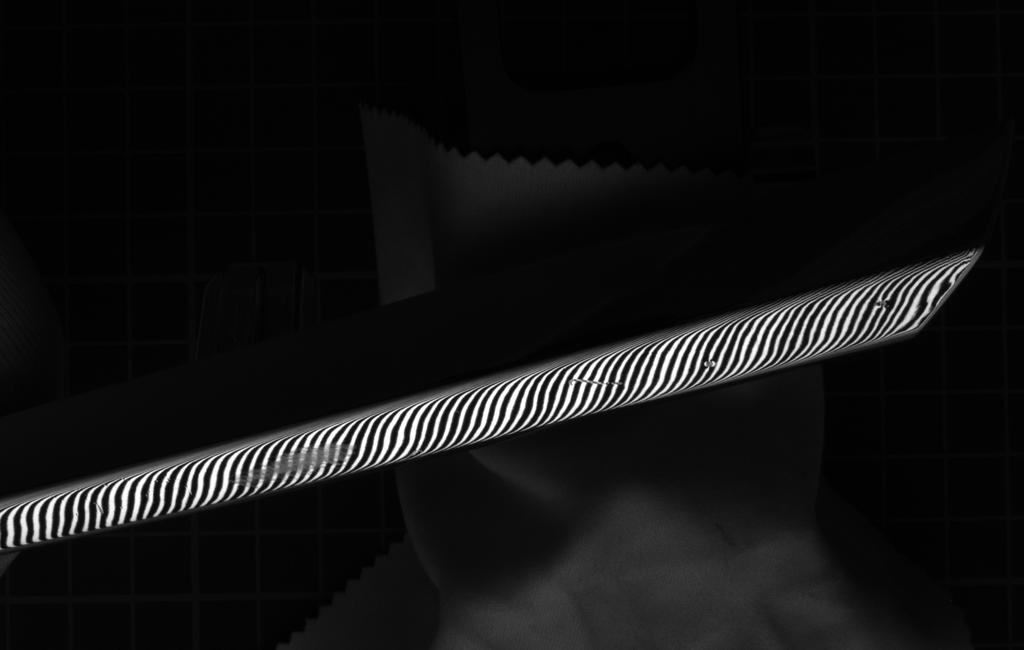Pierced: (697, 356, 724, 375), (872, 297, 897, 315)
Pitting: (228, 437, 359, 490)
Scratch: (567, 374, 633, 395)
